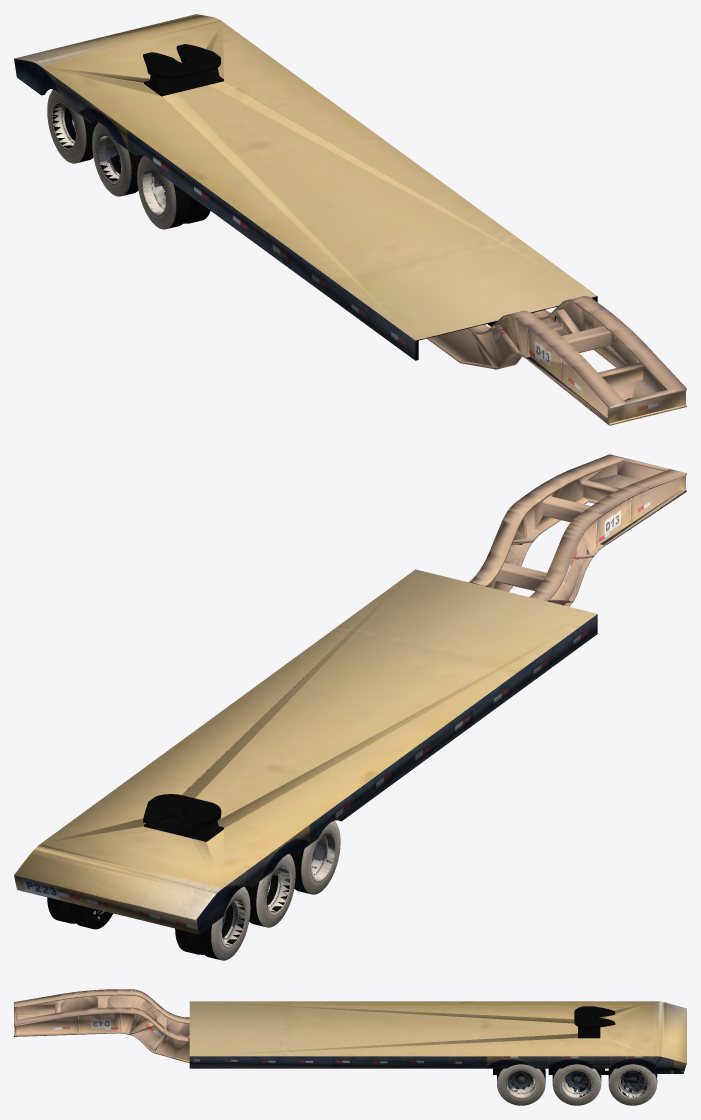
File: coil_semi_trailer_1.obj
The picture shows the model from 3 angles, top to bottom: view 1: azimuth 30°, elevation 25°; view 2: azimuth 150°, elevation 25°; view 3: azimuth 270°, elevation 25°; orthographic projection. The views are drawn at different scales.
Parts seen in each view (by area): view 1: Trailer_1_steel_coil; view 2: Trailer_1_steel_coil; view 3: Trailer_1_steel_coil.
Boxes of the visible parts, x1,y1,x2,y2 form: Trailer_1_steel_coil: (14,14,686,425); Trailer_1_steel_coil: (14,454,686,960); Trailer_1_steel_coil: (14,989,686,1105).
Bounding box in the file's own units: 2.7 × 1.83 × 13.94.
